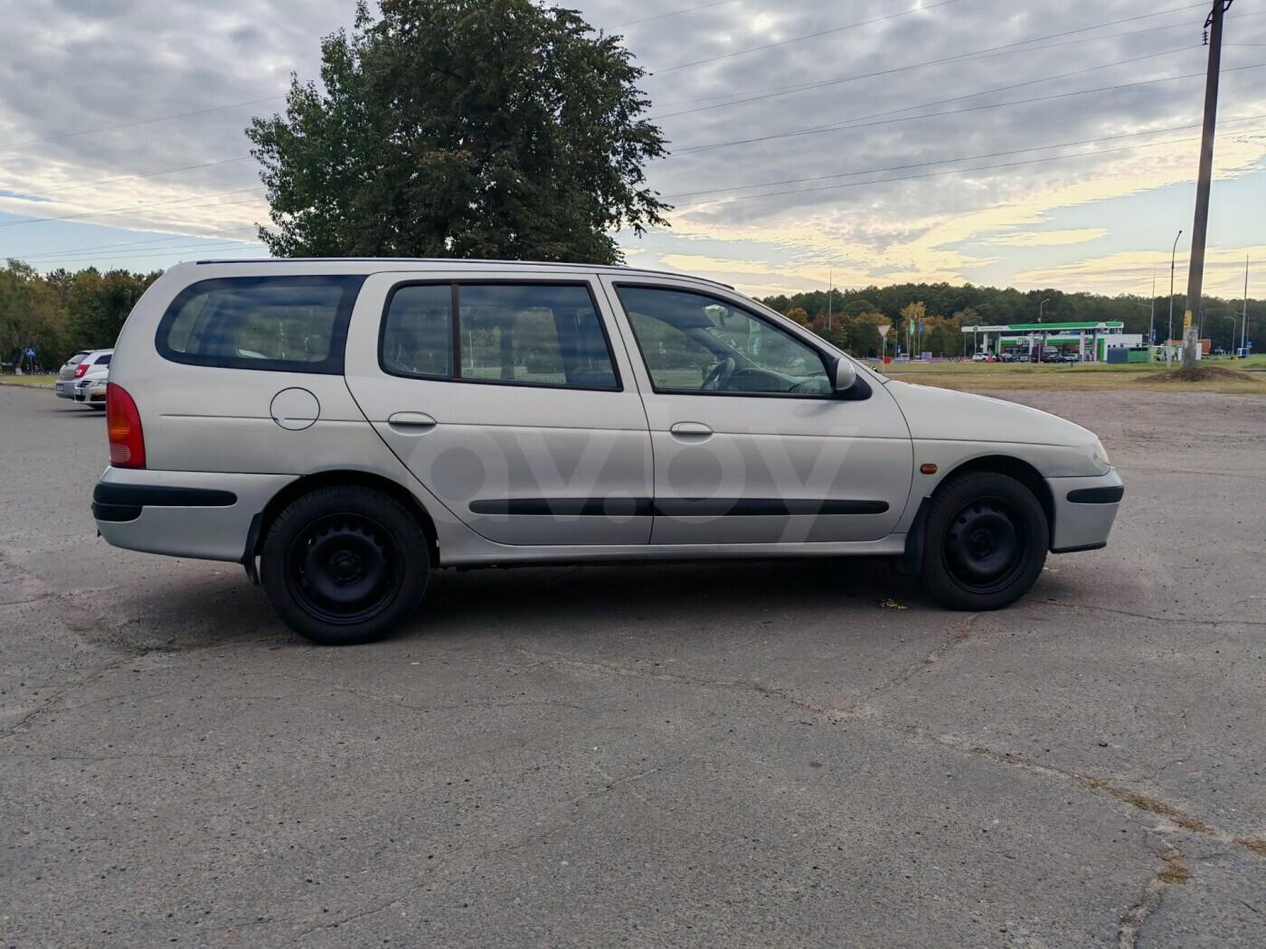Megane_1999-2003: (87, 243, 1130, 637)
